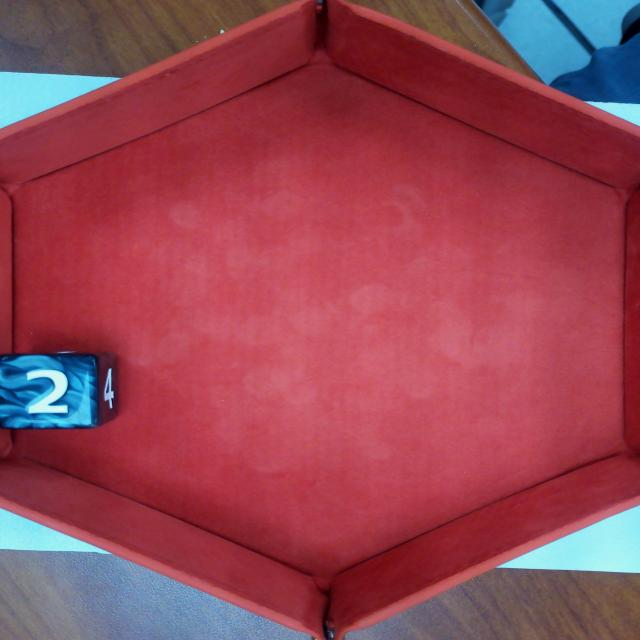dice: (0, 351, 97, 432)
